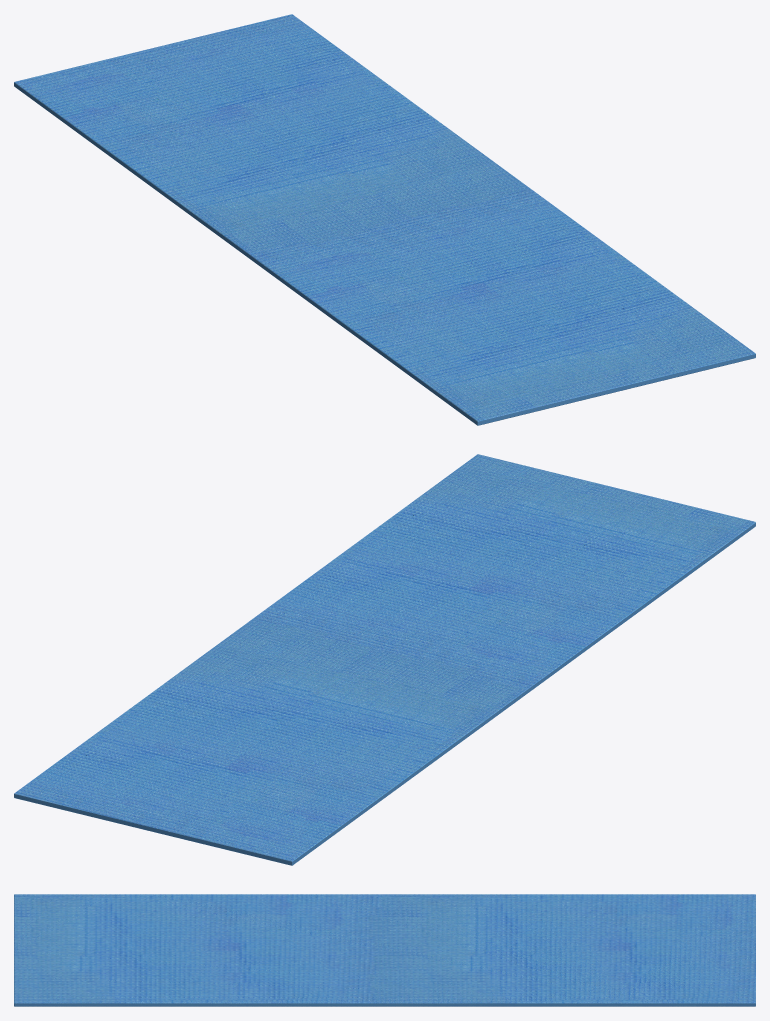
3 renders of one model, top to bottom at view 1: azimuth 30°, elevation 25°; view 2: azimuth 150°, elevation 25°; view 3: azimuth 270°, elevation 25°, orthographic. The views are drawn at different scales.
Visible parts, largest first — view 1: mat 2; view 2: mat 2; view 3: mat 2.
Boxes of the visible parts, x1,y1,x2,y2 form: mat 2: [14, 14, 755, 425]; mat 2: [14, 454, 755, 865]; mat 2: [14, 894, 755, 1006].
Bounding box in the file's own units: 60 × 1 × 173.
Materials: 1 (1 with a texture image).
